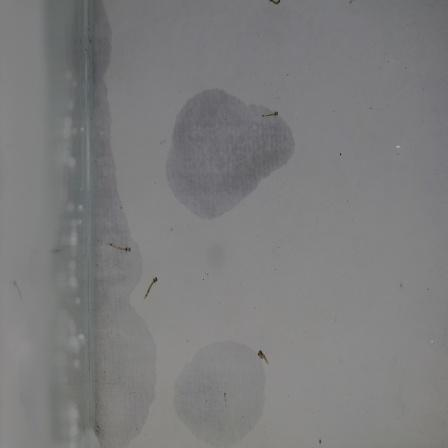Jentik-Nyamuk: (106, 234, 133, 257), (141, 274, 161, 303), (255, 343, 274, 371), (260, 106, 280, 121)
